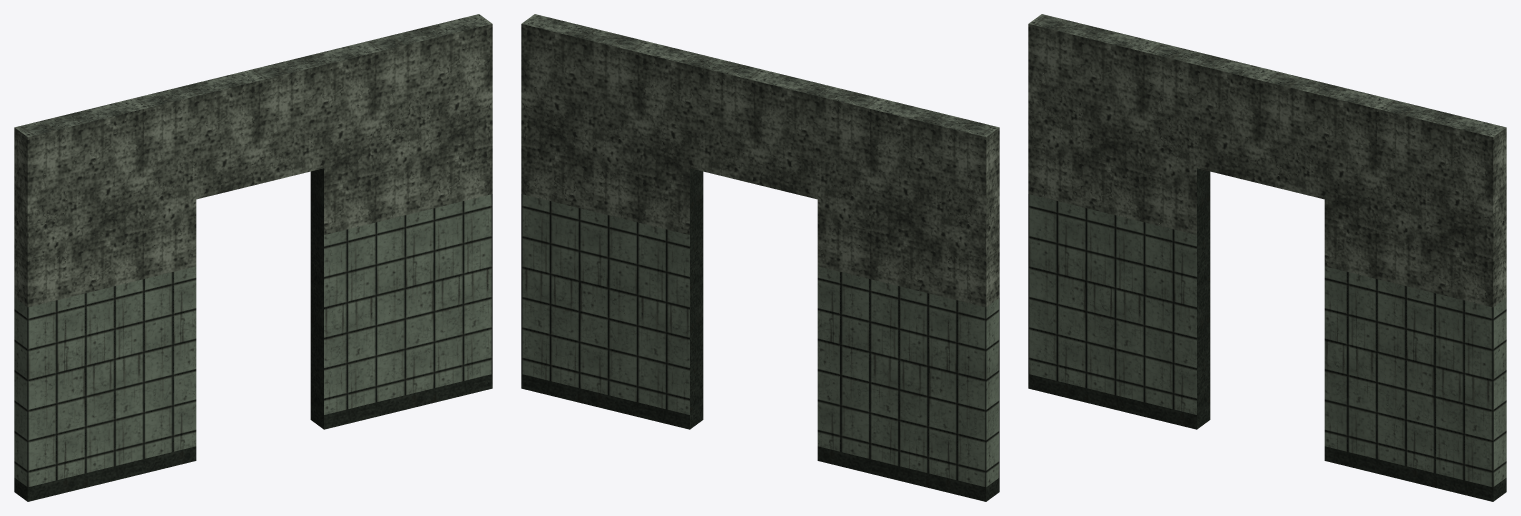
File: SM_Wall_Doorway_4m.fbx
The picture shows the model from 3 angles, left to right: view 1: azimuth 30°, elevation 25°; view 2: azimuth 150°, elevation 25°; view 3: azimuth 330°, elevation 25°; orthographic projection.
Parts seen in each view (by area): view 1: SM_Wall_Doorway_4m; view 2: SM_Wall_Doorway_4m; view 3: SM_Wall_Doorway_4m.
Boxes of the visible parts, x1,y1,x2,y2 form: SM_Wall_Doorway_4m: (14, 14, 492, 501); SM_Wall_Doorway_4m: (521, 14, 999, 501); SM_Wall_Doorway_4m: (1028, 14, 1506, 501).
Bounding box in the file's own units: 4 × 3 × 0.2.
